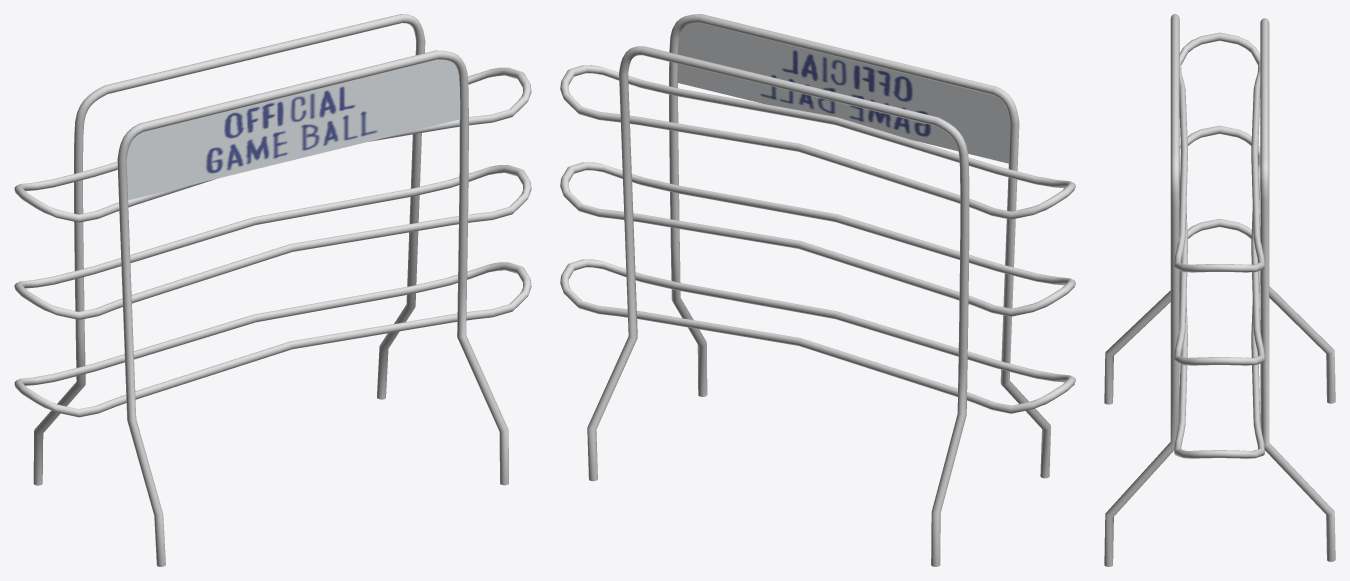
The model's file is Ball_Rack.FBX.
3 views of the same model, side by side, from view 1: azimuth 30°, elevation 25°; view 2: azimuth 150°, elevation 25°; view 3: azimuth 270°, elevation 25° (orthographic). The views are drawn at different scales.
Visible parts, largest first — view 1: Line003, Plane002; view 2: Line003, Plane002; view 3: Line003.
Part boxes in pixels (x1,y1,x2,y2): Line003: (14, 14, 531, 566); Plane002: (126, 59, 460, 200); Line003: (560, 14, 1075, 566); Plane002: (677, 23, 1010, 163); Line003: (1104, 14, 1335, 566).
Size of the model in its own units: 446 by 352 by 186.
